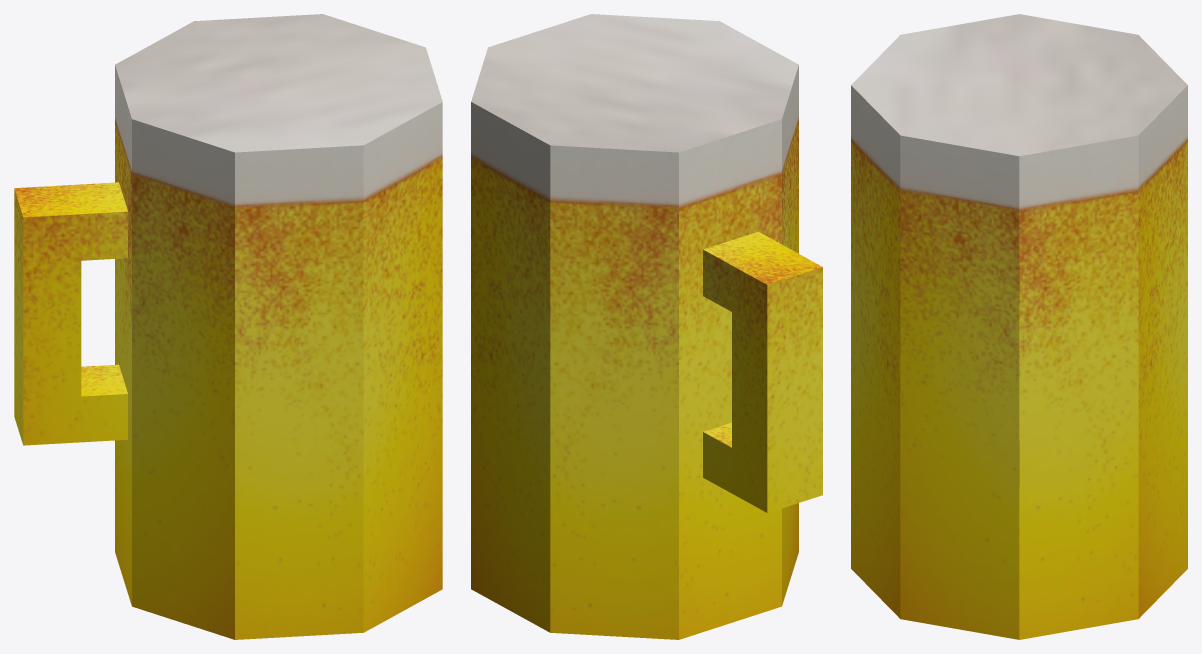
File: psx_low_poly_beer.glb
3 renders of one model, left to right at view 1: azimuth 30°, elevation 25°; view 2: azimuth 150°, elevation 25°; view 3: azimuth 270°, elevation 25°, orthographic.
Parts seen in each view (by area): view 1: Cylinder_0; view 2: Cylinder_0; view 3: Cylinder_0.
Boxes of the visible parts, x1=… form: Cylinder_0: x1=14, y1=14, x2=442, y2=639; Cylinder_0: x1=471, y1=14, x2=822, y2=639; Cylinder_0: x1=851, y1=14, x2=1187, y2=639.
Bounding box in the file's own units: 0.7648 × 0.9662 × 0.6096.
1 material, 1 textured.
